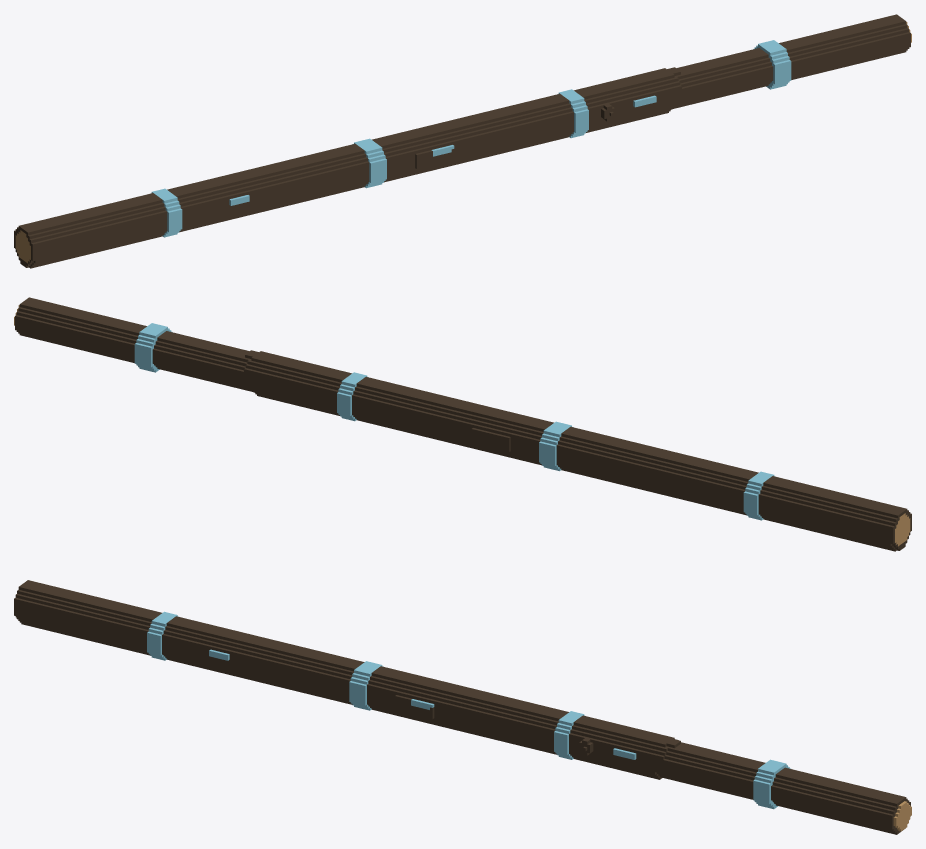
The model's file is enchanted_wood.glb.
3 renders of one model, top to bottom at view 1: azimuth 30°, elevation 25°; view 2: azimuth 150°, elevation 25°; view 3: azimuth 330°, elevation 25°, orthographic.
Visible parts, largest first — view 1: enchanted_wood:compound; view 2: enchanted_wood:compound; view 3: enchanted_wood:compound.
Part boxes in pixels (x1,y1,x2,y2): enchanted_wood:compound: (14,14,911,268); enchanted_wood:compound: (14,297,911,551); enchanted_wood:compound: (14,580,911,834).
Size of the model in its own units: 1.31 by 0.052 by 0.064.
